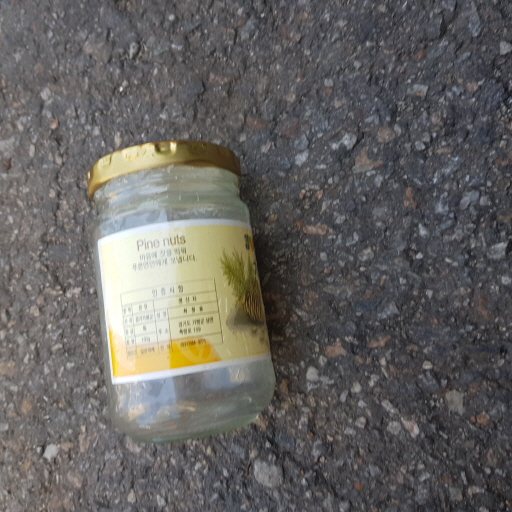Glass_5: (89, 128, 282, 438)
